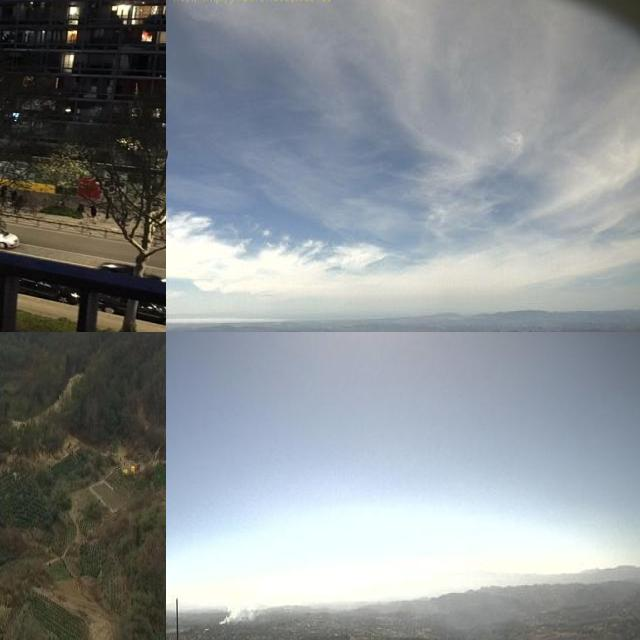smoke: (215, 592, 262, 625)
